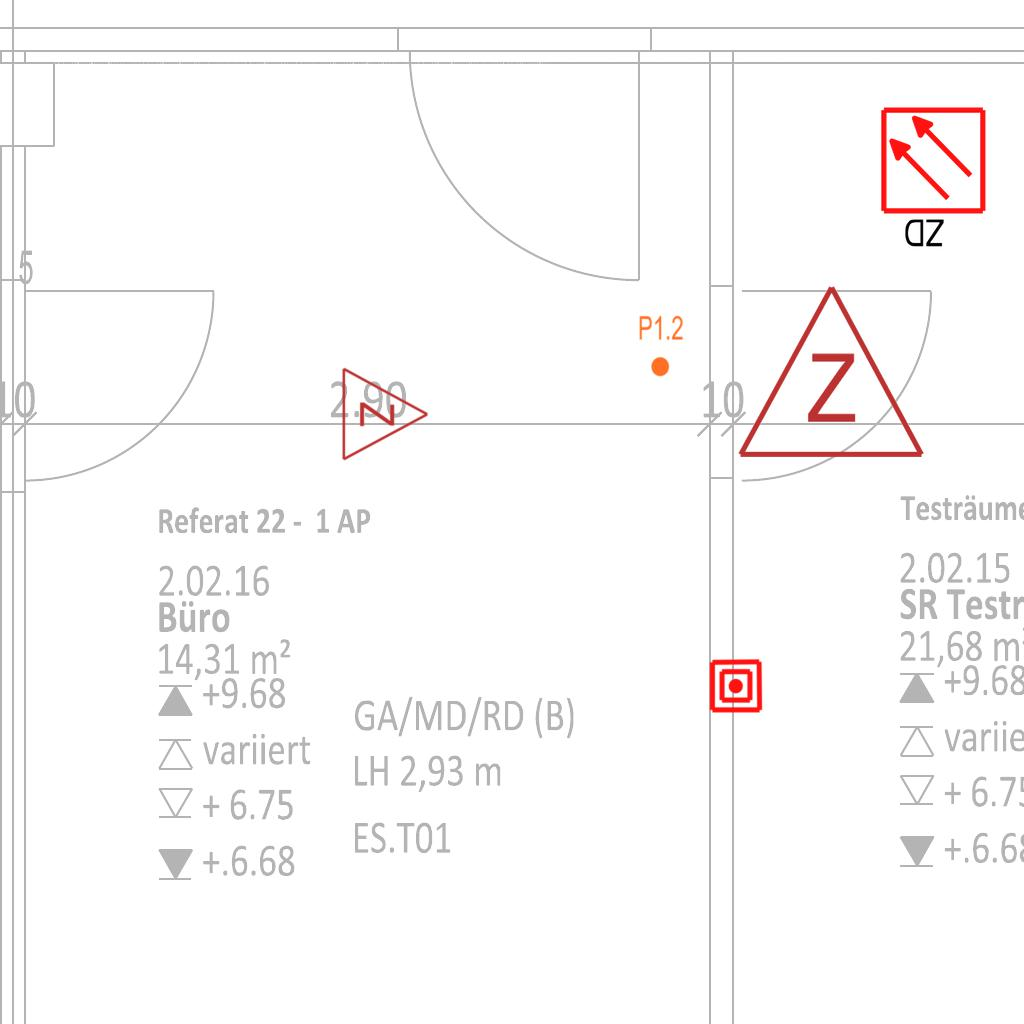Downlight_LED_Einbauleuchten_Flur: (638, 314, 684, 378)
NAM-Nichtautomatischer_Melder: (708, 658, 764, 714)
ZD_Melder_in_Zwischendecke_mit_Revisionsoeffnung_mind_40_x_40_cm: (878, 105, 992, 254)
Zimmersignalleuchte: (731, 272, 927, 472), (335, 364, 435, 462)
